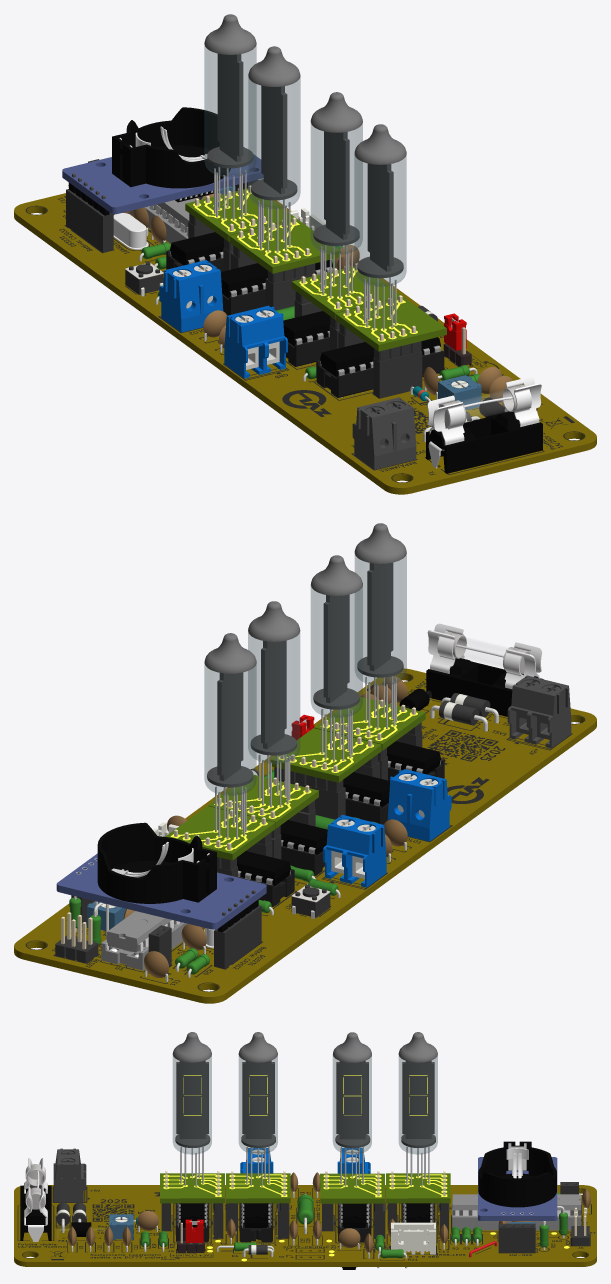
Rendered from clock-pcb.glb.
The picture shows the model from 3 angles, top to bottom: view 1: azimuth 30°, elevation 25°; view 2: azimuth 150°, elevation 25°; view 3: azimuth 270°, elevation 25°; orthographic projection. The views are drawn at different scales.
Visible parts, largest first — view 1: numitrónové hodiny.972, numitrónové hodiny.071, numitrónové hodiny.1138, numitrónové hodiny.1132, numitrónové hodiny.1129, numitrónové hodiny.1135, numitrónové hodiny.136, numitrónové hodiny.008, numitrónové hodiny.191, numitrónové hodiny.110, numitrónové hodiny.196, numitrónové hodiny.1072 (+38 smaller); view 2: numitrónové hodiny.972, numitrónové hodiny.071, numitrónové hodiny.1129, numitrónové hodiny.1135, numitrónové hodiny.1138, numitrónové hodiny.1132, numitrónové hodiny.008, numitrónové hodiny.191, numitrónové hodiny.196, numitrónové hodiny.110, numitrónové hodiny.136, numitrónové hodiny.1027 (+39 smaller); view 3: numitrónové hodiny.972, numitrónové hodiny.071, numitrónové hodiny.1132, numitrónové hodiny.1135, numitrónové hodiny.1138, numitrónové hodiny.1129, numitrónové hodiny.999, numitrónové hodiny.1083, numitrónové hodiny.1055, numitrónové hodiny.1027, numitrónové hodiny.1044, numitrónové hodiny.1016 (+35 smaller).
Part boxes in pixels (x1,y1,x2,y2): numitrónové hodiny.972: (14,193,596,494); numitrónové hodiny.071: (112,107,230,188); numitrónové hodiny.1138: (354,155,406,286); numitrónové hodiny.1132: (248,77,300,208); numitrónové hodiny.1129: (204,45,256,176); numitrónové hodiny.1135: (311,123,362,254); numitrónové hodiny.136: (426,411,542,473); numitrónové hodiny.008: (62,147,263,214); numitrónové hodiny.191: (352,397,416,469); numitrónové hodiny.110: (224,305,287,378); numitrónové hodiny.196: (159,260,223,332); numitrónové hodiny.1072: (335,297,446,351); numitrónové hodiny.972: (14,668,596,1003); numitrónové hodiny.071: (97,822,216,903); numitrónové hodiny.1129: (204,664,256,795); numitrónové hodiny.1135: (311,586,362,717); numitrónové hodiny.1138: (355,554,406,685); numitrónové hodiny.1132: (248,632,299,763); numitrónové hodiny.008: (56,853,266,929); numitrónové hodiny.191: (507,675,571,748); numitrónové hodiny.196: (323,814,386,887); numitrónové hodiny.110: (387,769,451,841); numitrónové hodiny.136: (426,658,543,716); numitrónové hodiny.1027: (217,672,243,781); numitrónové hodiny.972: (14,1185,596,1266); numitrónové hodiny.071: (478,1141,556,1207); numitrónové hodiny.1132: (333,1056,371,1154); numitrónové hodiny.1135: (239,1056,277,1154); numitrónové hodiny.1138: (173,1056,211,1154); numitrónové hodiny.1129: (399,1055,437,1154); numitrónové hodiny.999: (336,1060,368,1139); numitrónové hodiny.1083: (176,1060,208,1138); numitrónové hodiny.1055: (242,1060,274,1138); numitrónové hodiny.1027: (402,1060,434,1138); numitrónové hodiny.1044: (226,1173,290,1203); numitrónové hodiny.1016: (386,1173,450,1203).
Size of the model in its own units: 5.01 by 6.14 by 16.
